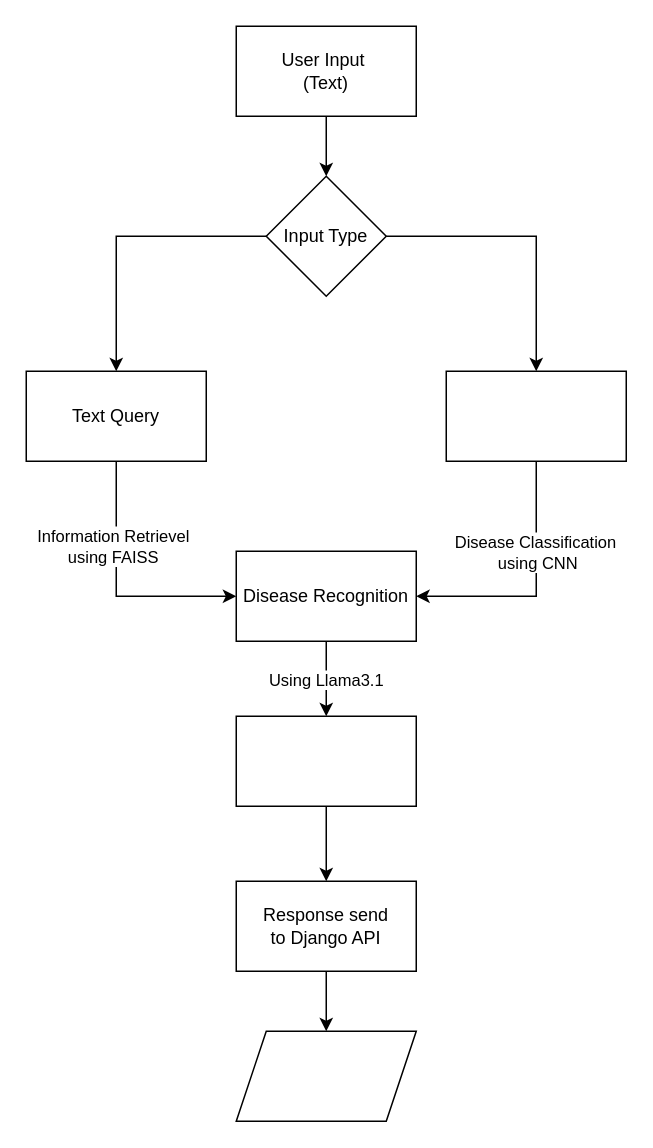
Some shapes in this 653 by 1148 pixel diagram are drawn without their labels. Each missing label, with the centre of its shape:
"Image Query" belongs at point (535, 415).
"Response Generation" belongs at point (325, 760).
"Return Response (Image/Text)" belongs at point (325, 1075).
